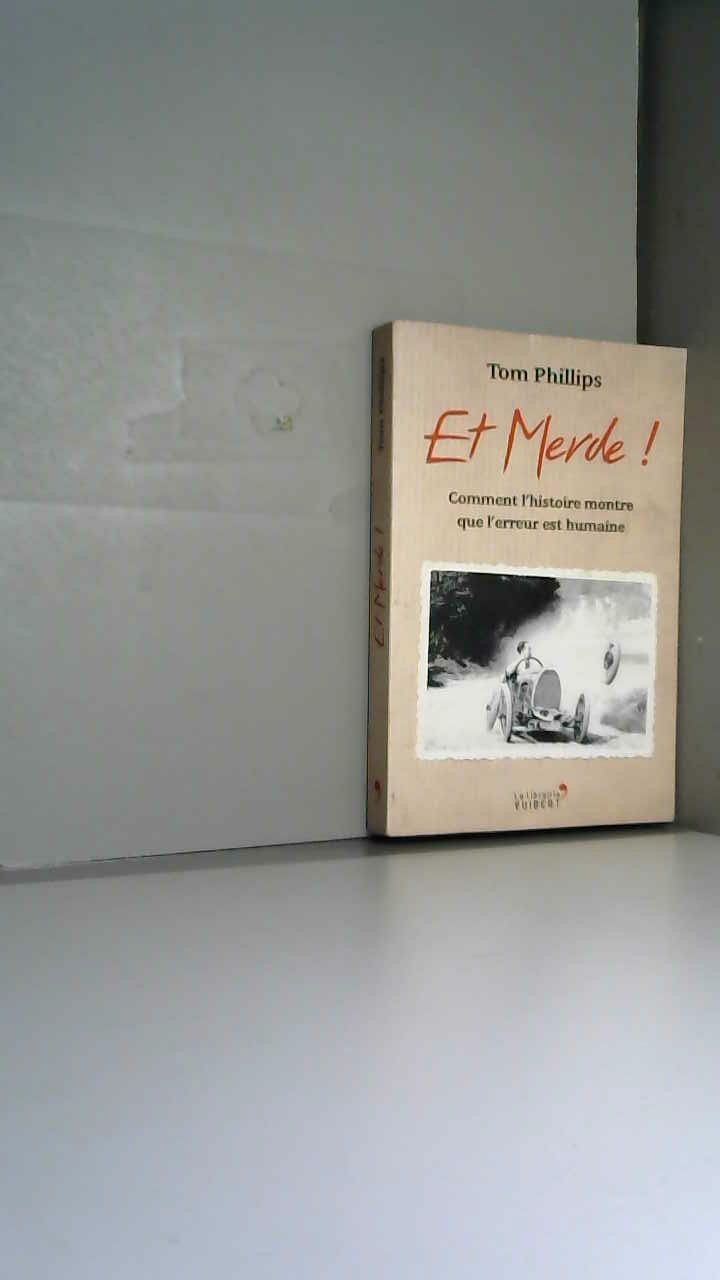book: (340, 300, 720, 910)
